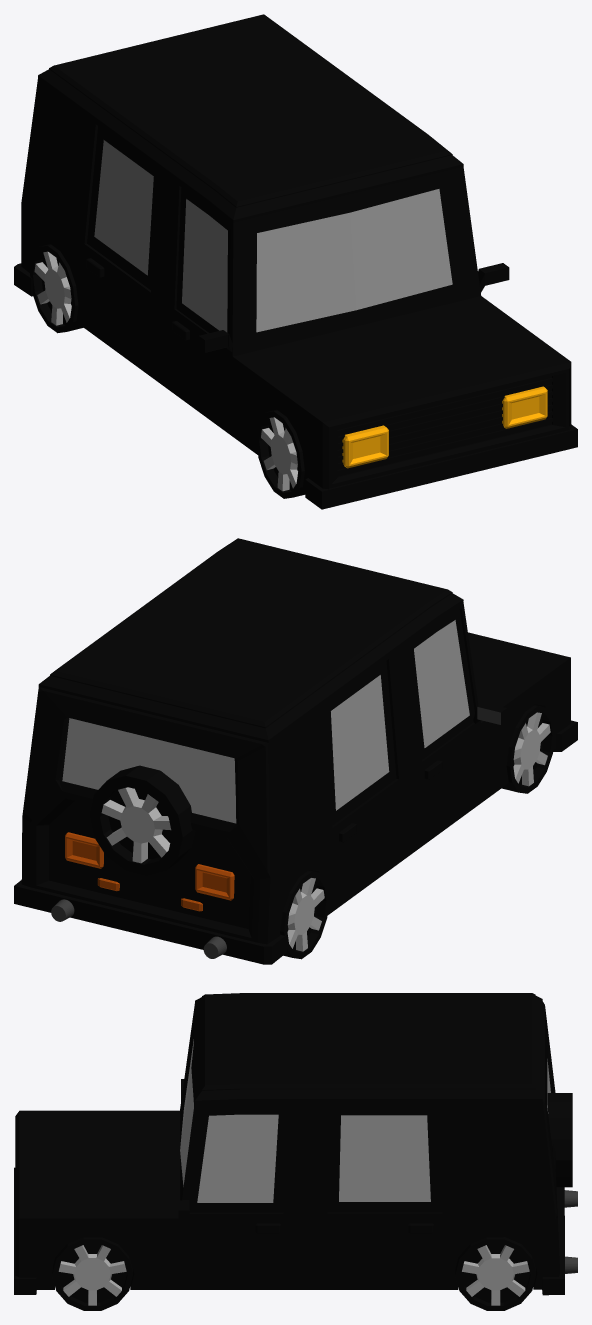
File: FR WHEEL_BODY.029.glb
3 renders of one model, top to bottom at view 1: azimuth 30°, elevation 25°; view 2: azimuth 150°, elevation 25°; view 3: azimuth 270°, elevation 25°, orthographic. The views are drawn at different scales.
Visible parts, largest first — view 1: FR WHEEL_BODY.029_0; view 2: FR WHEEL_BODY.029_0; view 3: FR WHEEL_BODY.029_0.
Part boxes in pixels (x1=…): FR WHEEL_BODY.029_0: x1=14, y1=14, x2=577, y2=509; FR WHEEL_BODY.029_0: x1=14, y1=538, x2=577, y2=964; FR WHEEL_BODY.029_0: x1=14, y1=993, x2=577, y2=1310.
Size of the model in its own units: 0.3877 by 0.2979 by 0.7021.
Materials: 1 (1 with a texture image).
